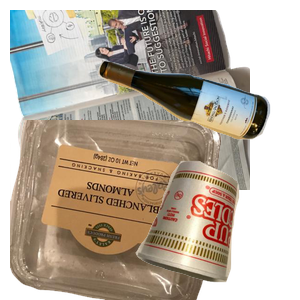glass: (95, 57, 300, 189)
paper: (10, 10, 250, 190)
plastic: (10, 120, 227, 300)
trash: (133, 158, 300, 300)
